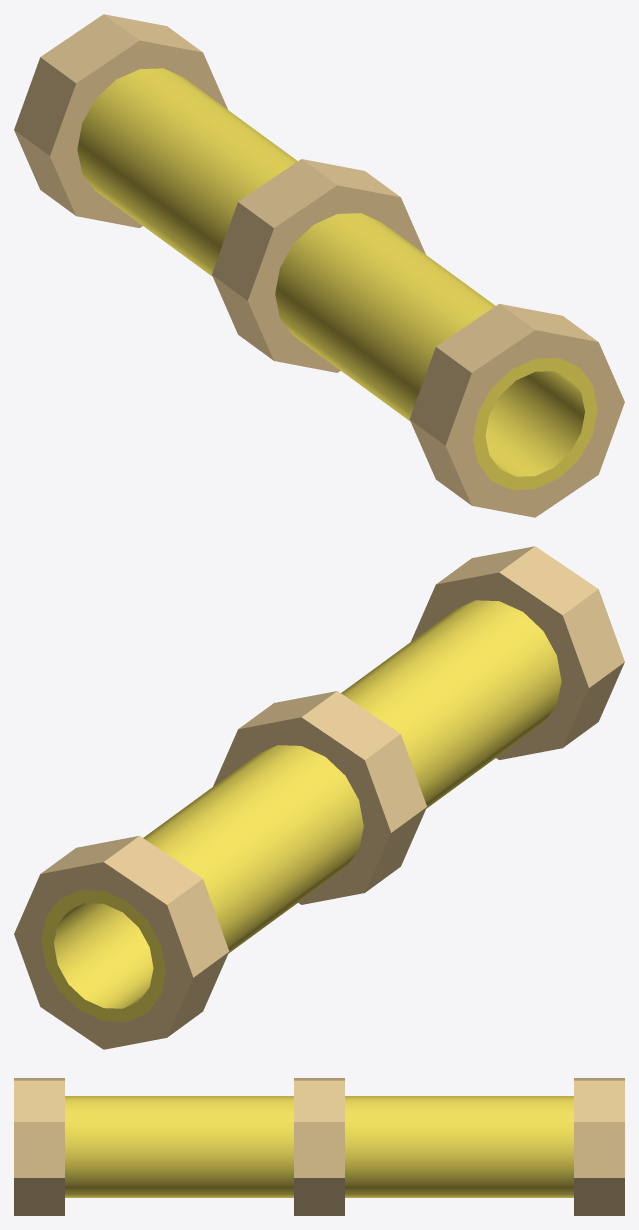
File: pipe_3m.fbx
The picture shows the model from 3 angles, top to bottom: view 1: azimuth 30°, elevation 25°; view 2: azimuth 150°, elevation 25°; view 3: azimuth 270°, elevation 25°; orthographic projection. The views are drawn at different scales.
Visible parts, largest first — view 1: Vert.035, Vert.036, Vert.028, Vert.037; view 2: Vert.035, Vert.037, Vert.028, Vert.036; view 3: Vert.035, Vert.036, Vert.037, Vert.028.
Boxes of the visible parts, x1,y1,x2,y2 form: Vert.035: (77, 68, 597, 489); Vert.036: (409, 304, 624, 517); Vert.028: (212, 159, 425, 372); Vert.037: (14, 14, 227, 227); Vert.035: (41, 600, 561, 1021); Vert.037: (14, 836, 229, 1049); Vert.028: (213, 691, 426, 904); Vert.036: (411, 546, 624, 759); Vert.035: (65, 1096, 573, 1197); Vert.036: (14, 1078, 64, 1215); Vert.037: (574, 1078, 624, 1215); Vert.028: (294, 1078, 344, 1215).
Size of the model in its own units: 72 by 72 by 300.
